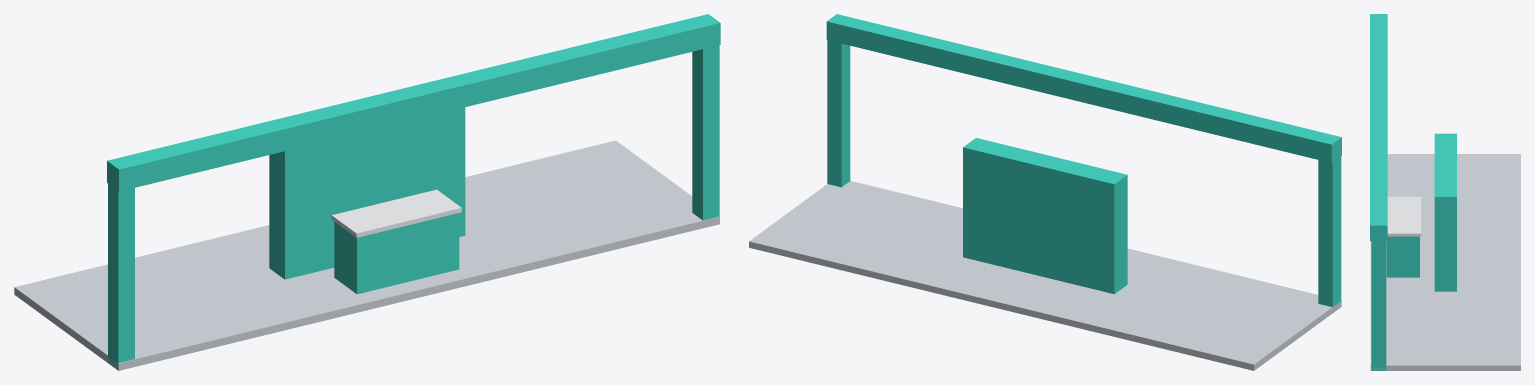
The picture shows the model from 3 angles, left to right: view 1: azimuth 30°, elevation 25°; view 2: azimuth 150°, elevation 25°; view 3: azimuth 270°, elevation 25°; orthographic projection. The views are drawn at different scales.
Visible parts, largest first — view 1: Exhibition Booth Concept; view 2: Exhibition Booth Concept; view 3: Exhibition Booth Concept.
Boxes of the visible parts, x1,y1,x2,y2 form: Exhibition Booth Concept: (14, 14, 720, 370); Exhibition Booth Concept: (749, 14, 1341, 370); Exhibition Booth Concept: (1370, 14, 1520, 370).
Bounding box in the file's own units: 10 × 3.2 × 3.01.
